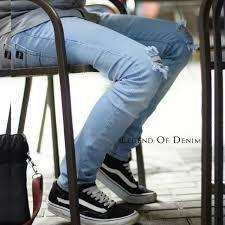pants: (14, 9, 185, 181)
